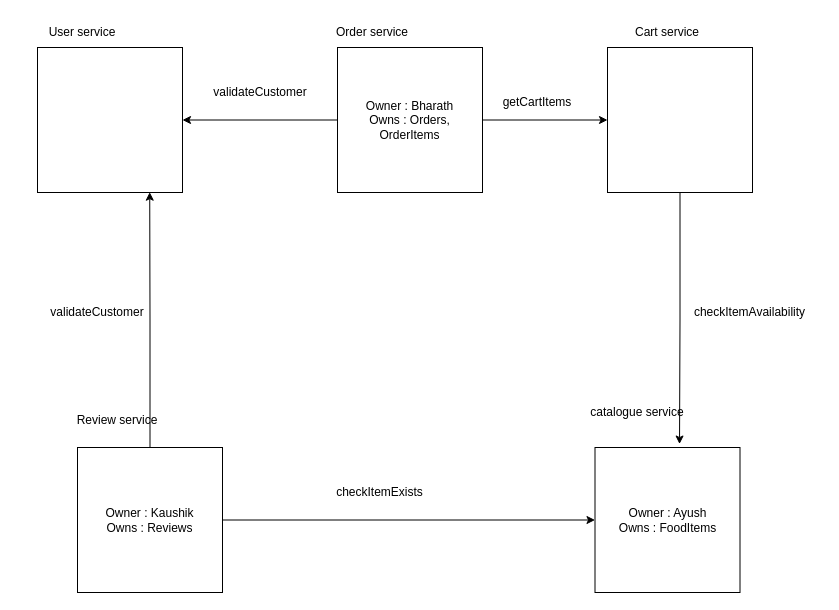
Some shapes in this 839 by 610 pixel diagram are drawn without their labels. Here are the shapes that lost their labels. From the top down, the centre of each, then its label:
At (x=109, y=119): "Owner : Abhinav jain Owns : Users".
At (x=679, y=119): "Owner: Anuj Owns : CartItems".
